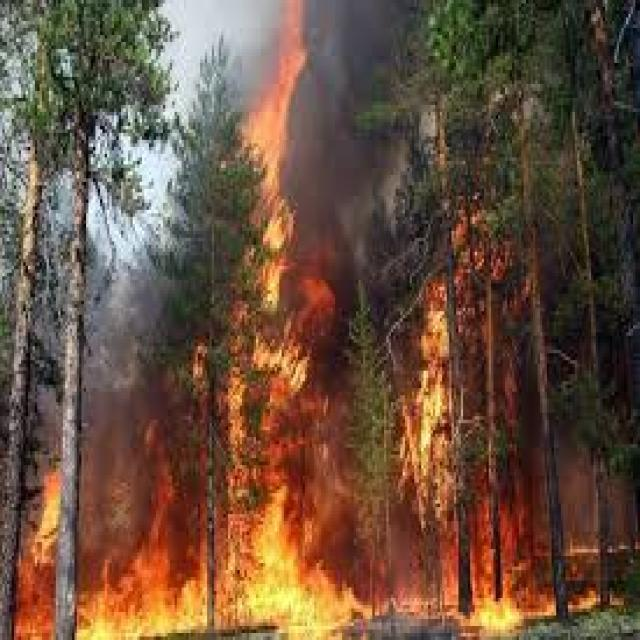Fire: (77, 328, 353, 637), (399, 200, 564, 640), (240, 0, 306, 315), (13, 468, 60, 640), (568, 518, 633, 618)
Smoke: (310, 0, 397, 324), (80, 244, 242, 323)
